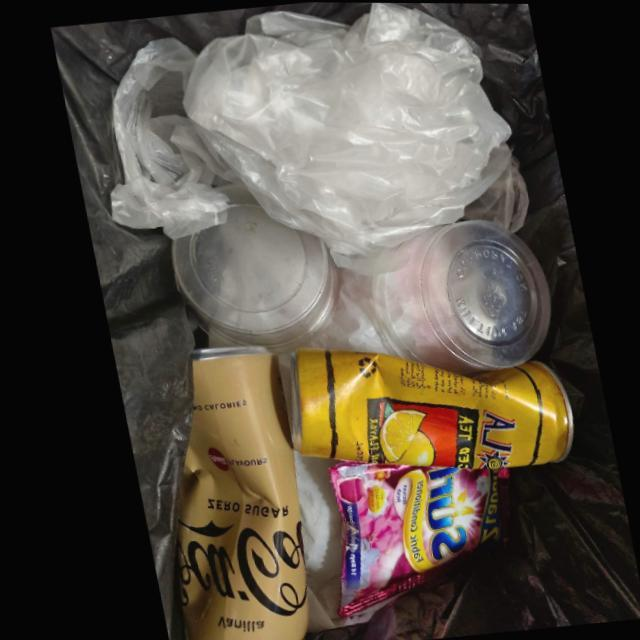metal: (165, 346, 296, 640), (280, 346, 565, 468)
plastic: (104, 2, 525, 273), (364, 217, 545, 372), (166, 182, 333, 346)
wrapper: (319, 459, 500, 617)
